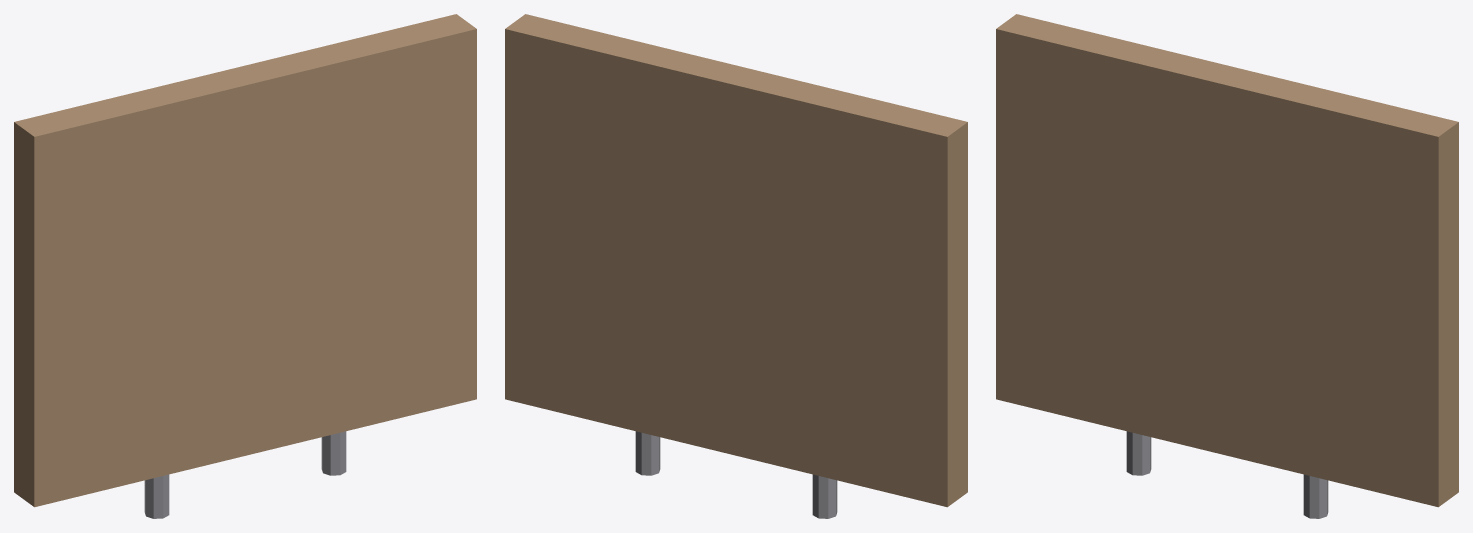
The model's file is notice_board.glb.
3 renders of one model, left to right at view 1: azimuth 30°, elevation 25°; view 2: azimuth 150°, elevation 25°; view 3: azimuth 330°, elevation 25°, orthographic.
Visible parts, largest first — view 1: board, post1, post2; view 2: board, post1, post2; view 3: board, post2, post1.
Part boxes in pixels (x1,y1,x2,y2): board: (14,14,476,507); post1: (144,474,169,518); post2: (321,431,346,475); board: (505,14,967,507); post1: (812,474,837,518); post2: (635,431,660,475); board: (996,14,1458,507); post2: (1303,474,1328,518); post1: (1126,431,1151,475).
Bounding box in the file's own units: 2 × 1.8 × 0.1602.
